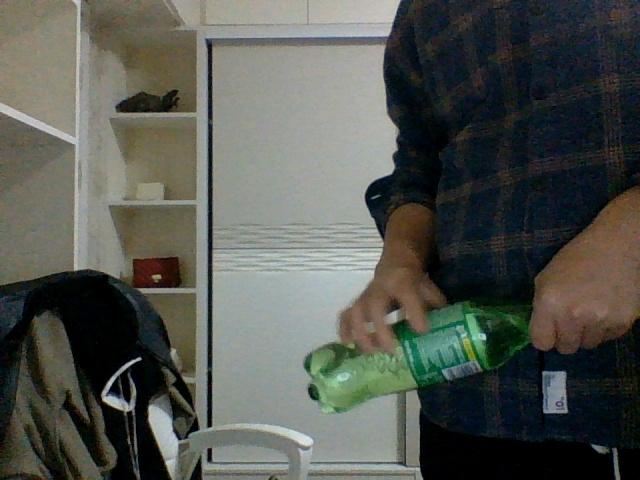Sprite: (301, 295, 534, 416)
